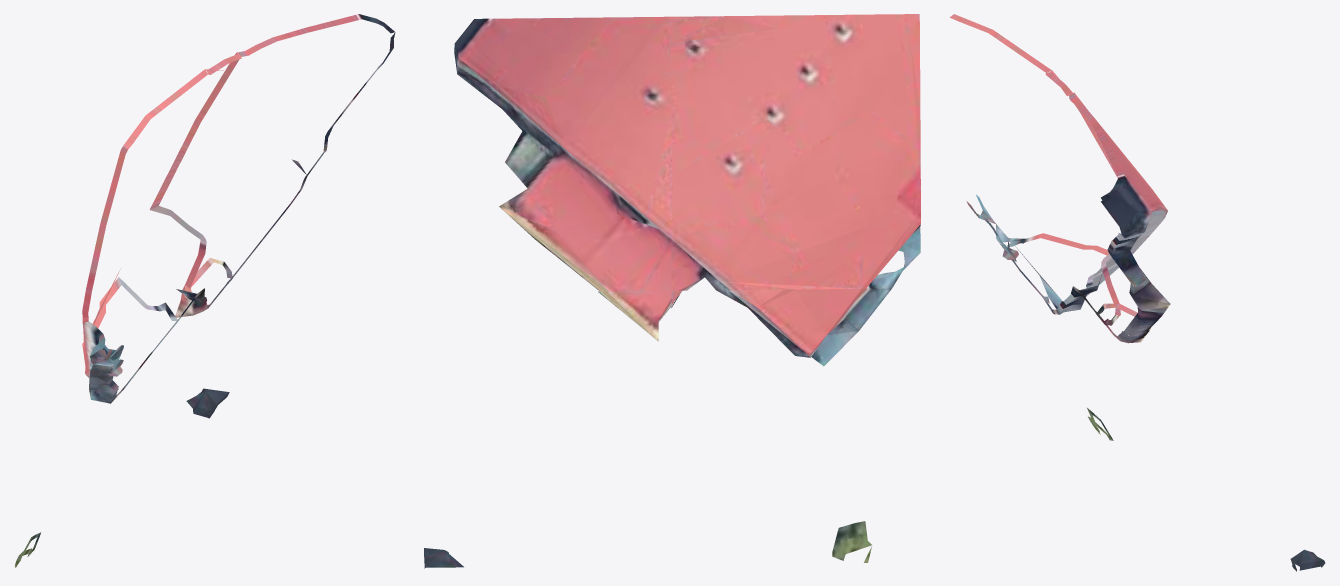
3 views of the same model, side by side, from view 1: azimuth 30°, elevation 25°; view 2: azimuth 150°, elevation 25°; view 3: azimuth 270°, elevation 25° (orthographic). The views are drawn at different scales.
Size of the model in its own units: 32.35 by 37.55 by 29.12.
1 material, 1 textured.
